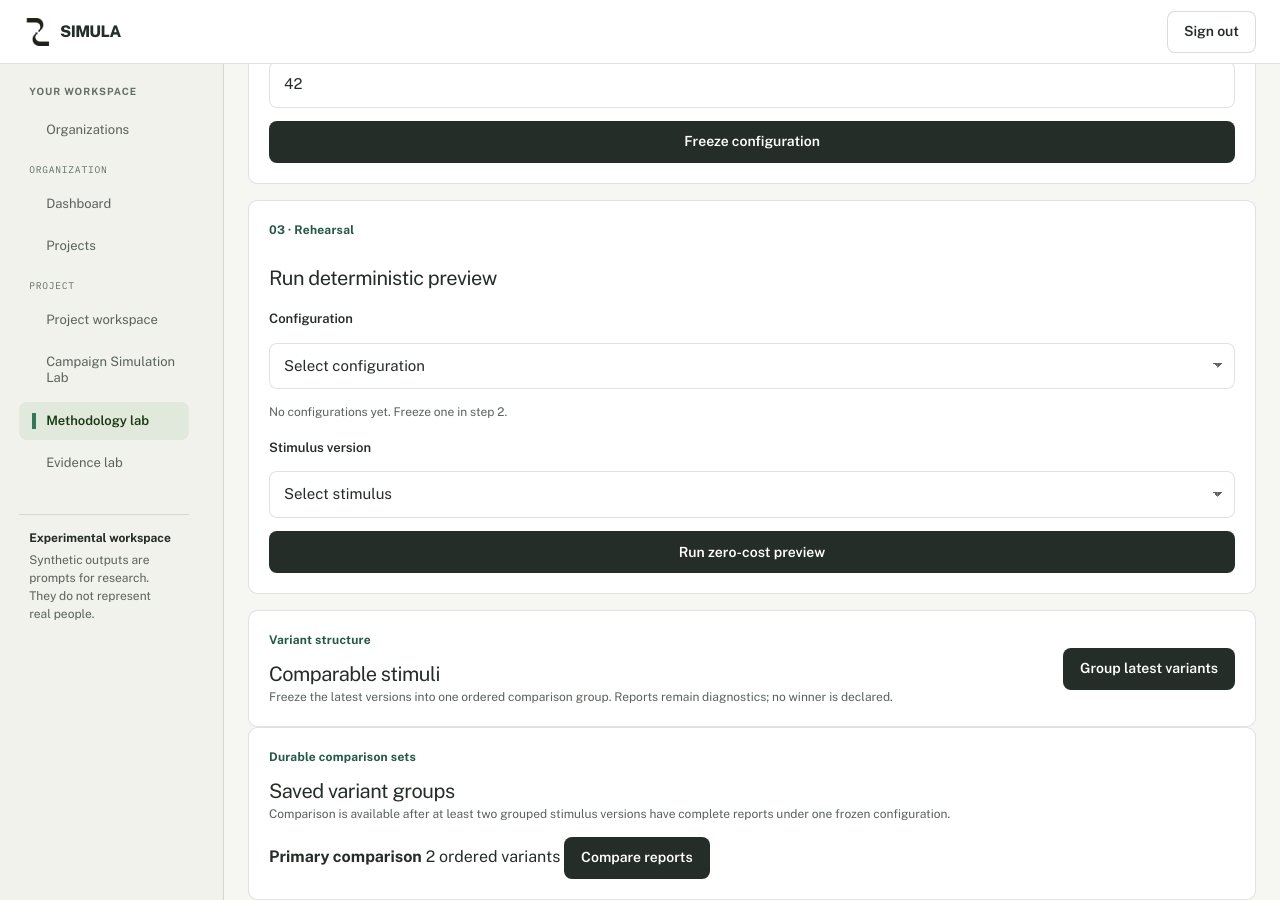
MethodologyWorkspace durable comparison › lists durable groups and renders a no-winner compatible comparison
The width and height of the screenshot is (1280, 900).
(page scrolled)
Expected: the heading "Saved variant groups" is shown, [269,779,454,803]
Expected: the text "2 ordered variants" is shown, [426,847,560,866]
Click the button "Compare reports" at (637, 858), box [564,837,710,879]
(page scrolled)
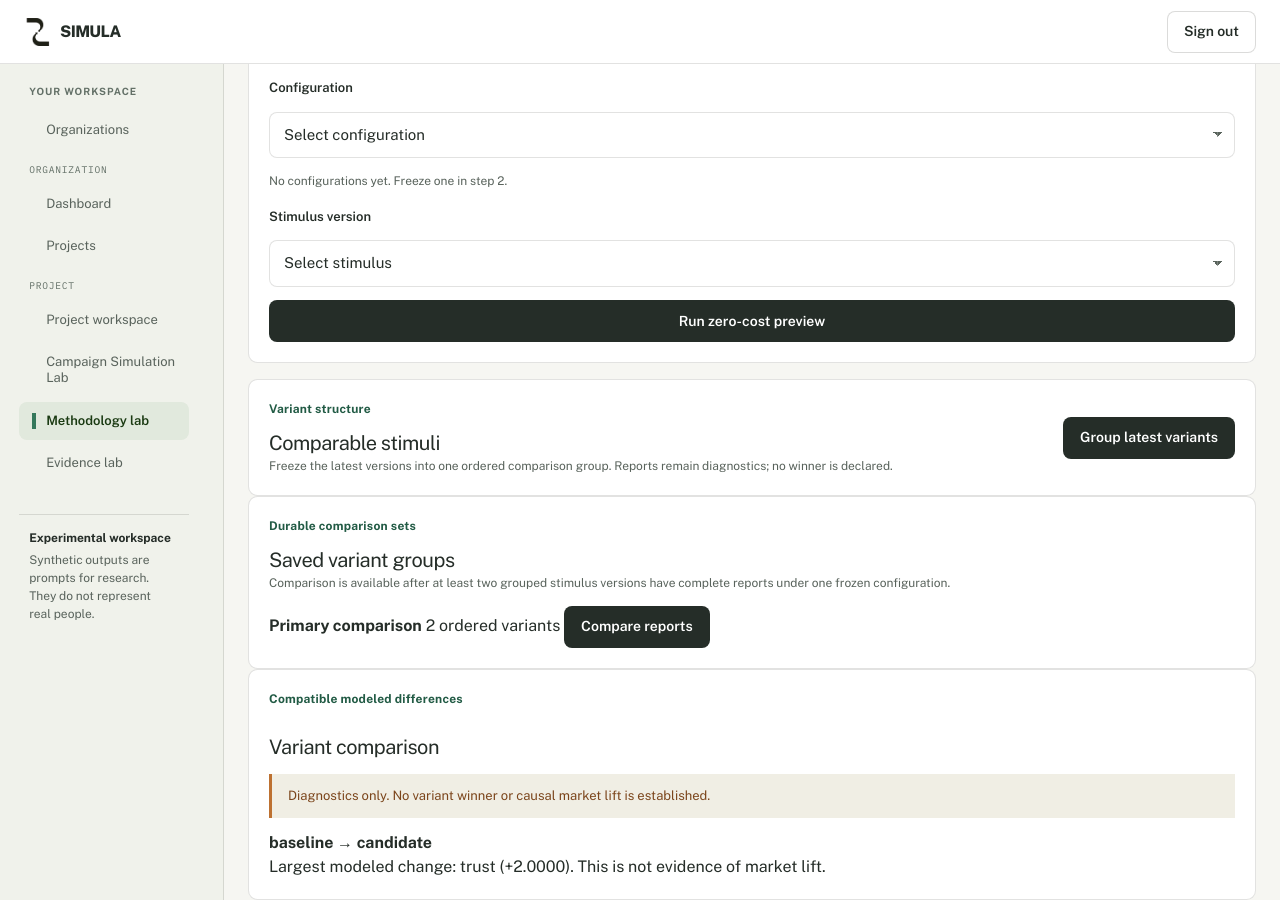
Expected: the text "Largest modeled change: trust" is shown, [269,857,826,876]
Expected: the text "No variant winner or causal market lift" is shown, [288,788,710,803]
